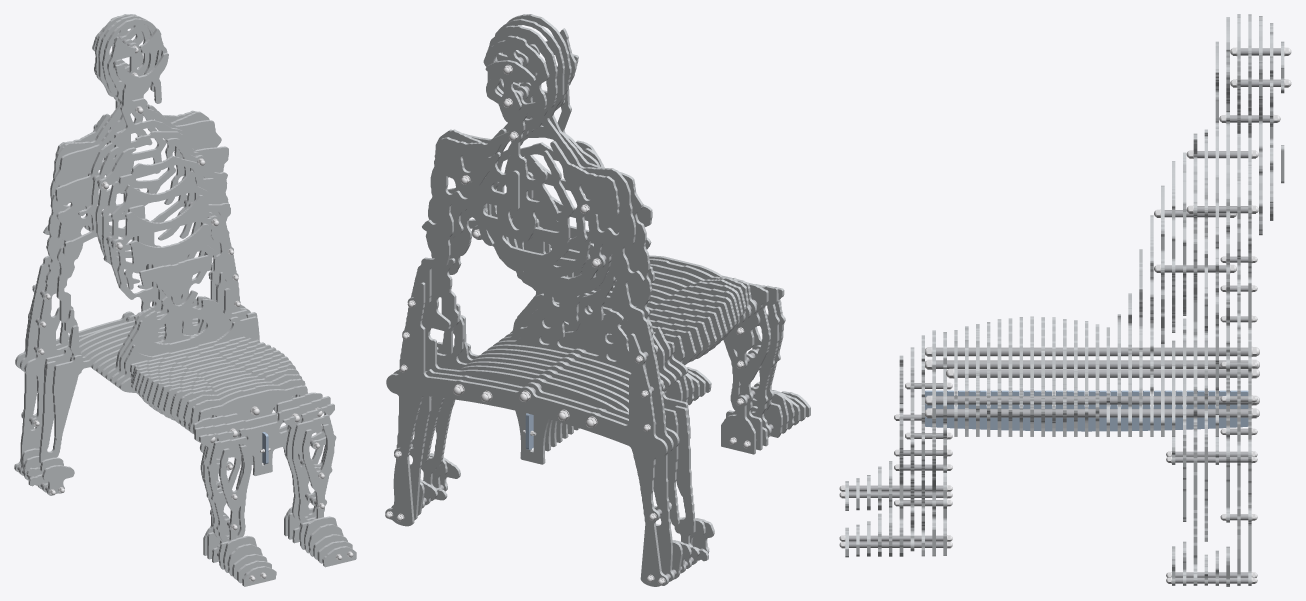
Rendered from armageddonseat-v17-metal-parts.glb.
3 renders of one model, left to right at view 1: azimuth 30°, elevation 25°; view 2: azimuth 150°, elevation 25°; view 3: azimuth 270°, elevation 25°, orthographic. The views are drawn at different scales.
Visible parts, largest first — view 1: R06a, R07a, R05, R33, R15, R14, R13, R12a, R10a, R09a, R03, R11a (+36 smaller); view 2: R05, R04a, R06a, R02, R04b, R03, R09a, R13, R07a, R08a, R33, R14 (+28 smaller); view 3: K01, R05, R06a, R07a, R09a, R04a, R08a, R33, R13, R03, R09b, R10a (+11 smaller).
Part boxes in pixels (<box>): R06a: <box>24,36,250,426</box>; R07a: <box>55,52,228,344</box>; R05: <box>19,18,245,475</box>; R33: <box>194,396,330,559</box>; R15: <box>110,290,232,384</box>; R14: <box>105,255,210,380</box>; R13: <box>100,223,215,377</box>; R12a: <box>111,195,219,311</box>; R10a: <box>52,316,259,441</box>; R09a: <box>28,288,259,489</box>; R03: <box>92,14,166,184</box>; R11a: <box>107,170,213,306</box>; R05: <box>391,14,674,581</box>; R04a: <box>385,282,668,586</box>; R06a: <box>399,28,679,510</box>; R02: <box>474,35,558,241</box>; R04b: <box>435,128,619,265</box>; R03: <box>469,25,574,244</box>; R09a: <box>421,315,708,564</box>; R13: <box>493,214,665,390</box>; R07a: <box>441,51,652,371</box>; R08a: <box>422,303,679,524</box>; R33: <box>723,284,778,450</box>; R14: <box>498,291,670,388</box>; K01: <box>925,390,1248,431</box>; R05: <box>1237,14,1240,585</box>; R06a: <box>1226,17,1229,522</box>; R07a: <box>1215,41,1218,414</box>; R09a: <box>1193,303,1197,585</box>; R04a: <box>1248,254,1251,585</box>; R08a: <box>1204,306,1207,541</box>; R33: <box>932,330,935,556</box>; R13: <box>1150,215,1153,436</box>; R03: <box>1259,16,1262,235</box>; R09b: <box>1193,133,1197,303</box>; R10a: <box>1183,318,1186,521</box>.
Bounding box in the file's own units: 0.7631 × 1.29 × 1.04.
